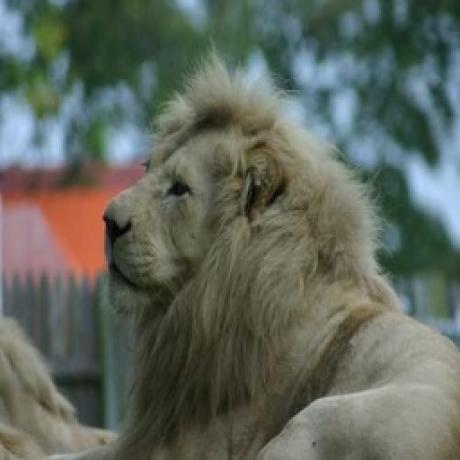Lion: (99, 47, 460, 458)
